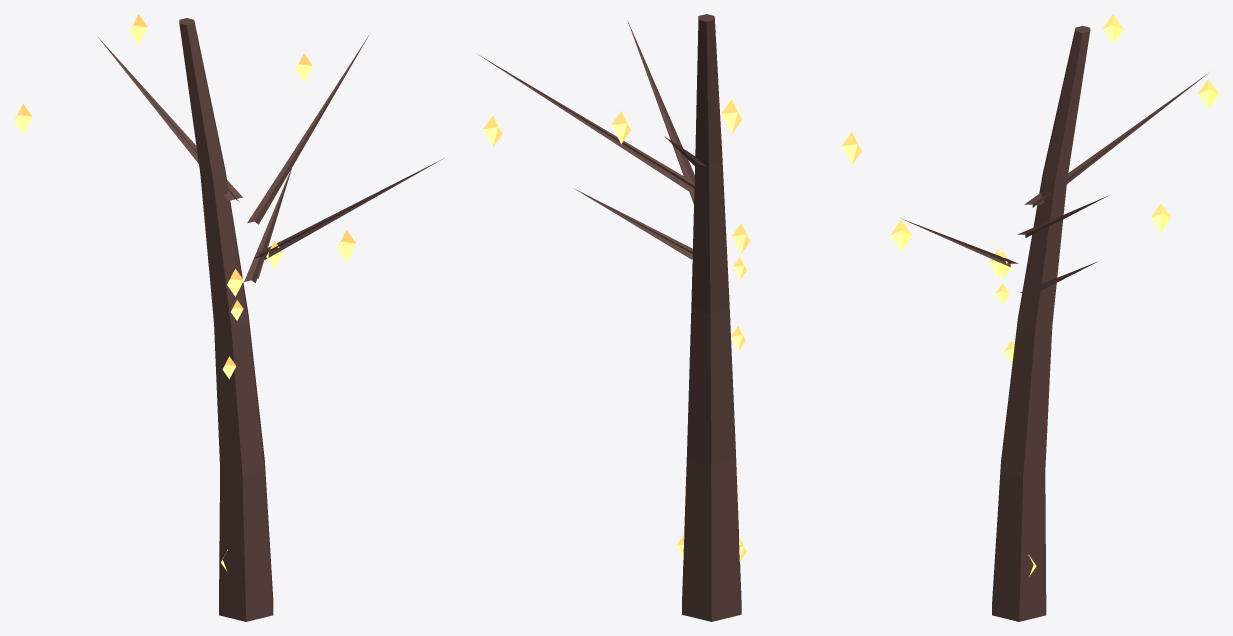
File: dead_ember_near.glb
The picture shows the model from 3 angles, left to right: view 1: azimuth 30°, elevation 25°; view 2: azimuth 150°, elevation 25°; view 3: azimuth 270°, elevation 25°; orthographic projection. The views are drawn at different scales.
Parts seen in each view (by area): view 1: dead_ember_near; view 2: dead_ember_near; view 3: dead_ember_near.
Boxes of the visible parts, x1,y1,x2,y2 form: dead_ember_near: (14,14,443,621); dead_ember_near: (477,14,861,621); dead_ember_near: (890,14,1218,621).
Bounding box in the file's own units: 1.44 × 2.2 × 1.16.
